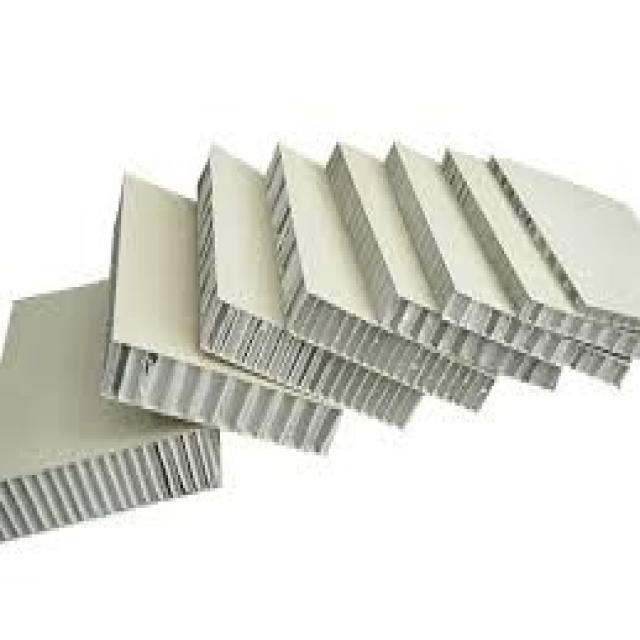cardboard paper: (103, 142, 638, 450), (104, 142, 638, 449)
